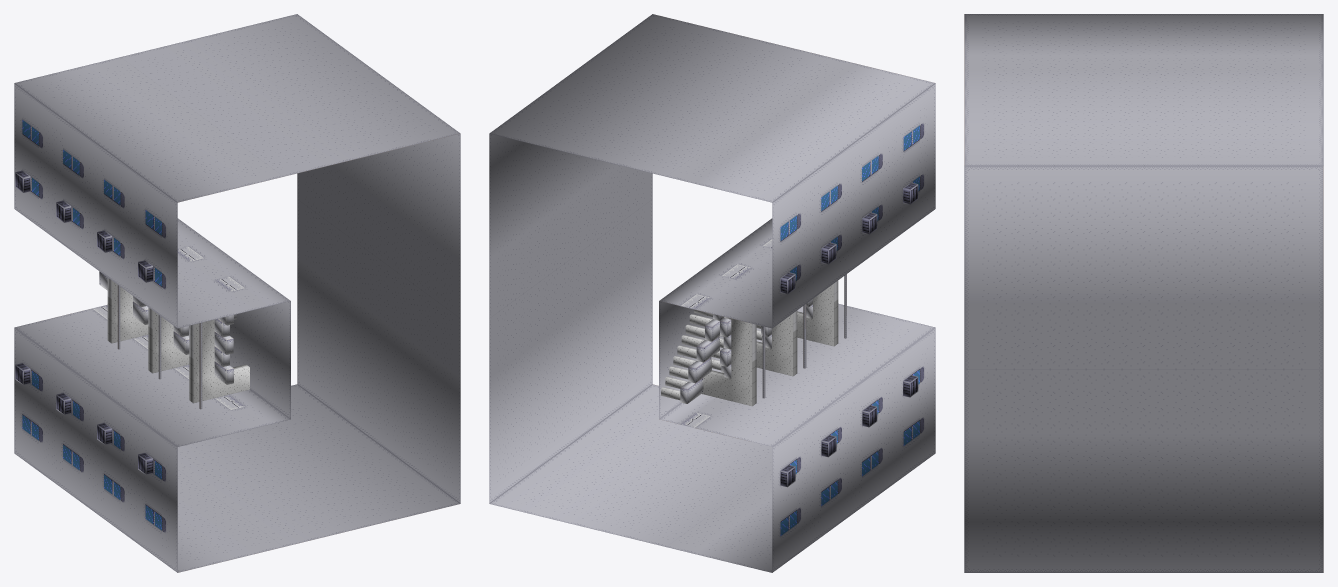
Rendered from apartment_nodoors.fbx.
3 renders of one model, left to right at view 1: azimuth 30°, elevation 25°; view 2: azimuth 150°, elevation 25°; view 3: azimuth 270°, elevation 25°, orthographic. The views are drawn at different scales.
Visible parts, largest first — view 1: apartment_001; view 2: apartment_001; view 3: apartment_001.
Part boxes in pixels (x1=…): apartment_001: x1=14, y1=14, x2=460, y2=572; apartment_001: x1=489, y1=14, x2=935, y2=572; apartment_001: x1=964, y1=14, x2=1323, y2=572.
Size of the model in its own units: 41 by 50 by 40.
1 material, 1 textured.
